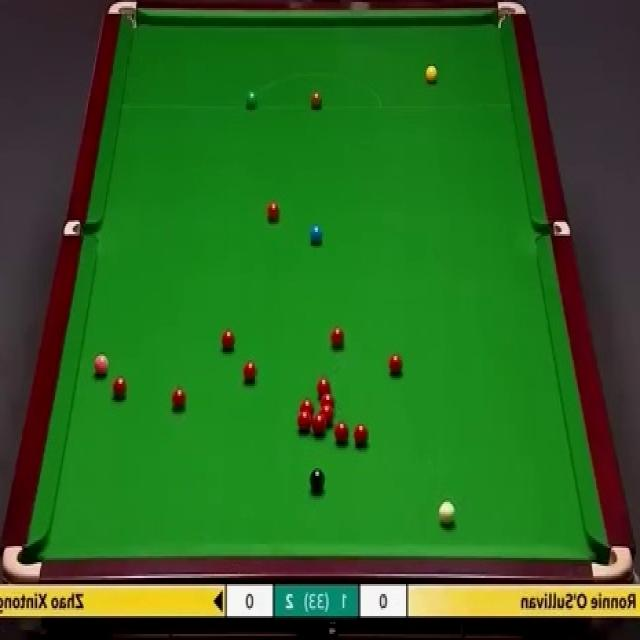black-ball: (309, 467, 325, 493)
blue-ball: (310, 224, 323, 242)
brown-ball: (310, 92, 323, 109)
green-ball: (245, 89, 258, 109)
pink-ball: (92, 354, 110, 378)
red-ball: (111, 377, 127, 399), (312, 414, 326, 439), (388, 354, 404, 375), (296, 411, 312, 432), (242, 361, 258, 382), (334, 421, 349, 443), (353, 423, 368, 445), (330, 326, 345, 347), (173, 388, 186, 412), (266, 202, 280, 222), (300, 398, 314, 416), (222, 330, 234, 350), (321, 408, 334, 426), (318, 377, 329, 398), (321, 397, 334, 413)
white-ball: (437, 498, 456, 528)
yellow-ball: (426, 64, 438, 85)
